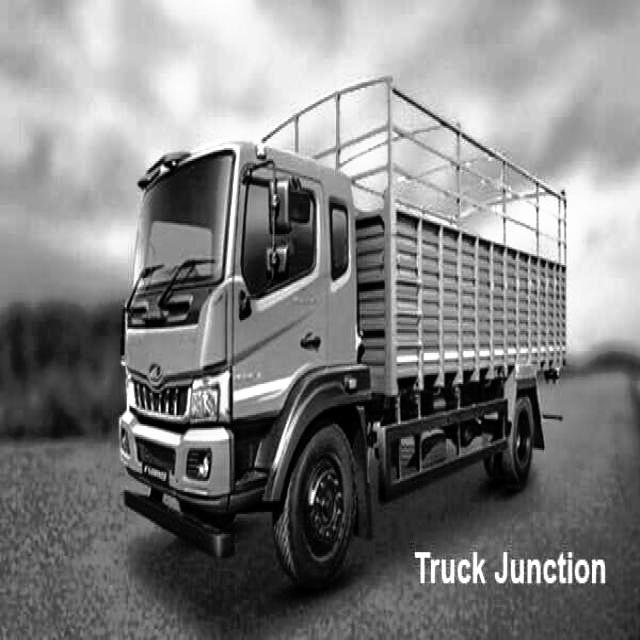HCV: (99, 58, 607, 583)
